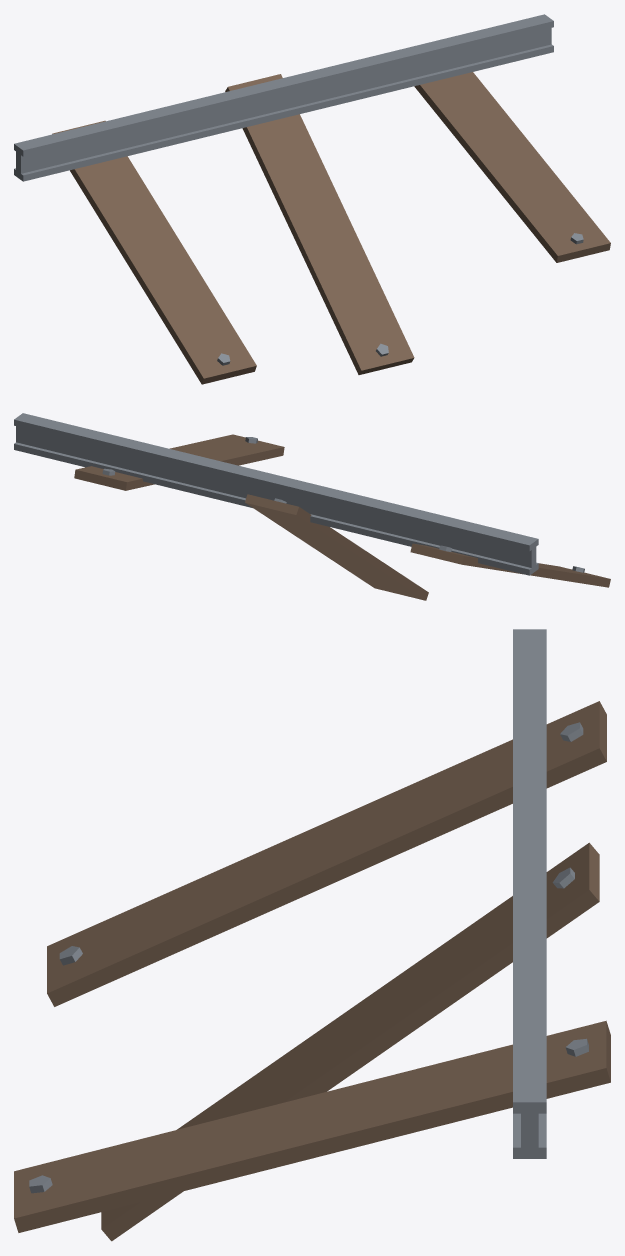
The model's file is Track_HalfLeft.fbx.
The picture shows the model from 3 angles, top to bottom: view 1: azimuth 30°, elevation 25°; view 2: azimuth 150°, elevation 25°; view 3: azimuth 270°, elevation 25°; orthographic projection. The views are drawn at different scales.
Visible parts, largest first — view 1: Track_HalfLeft; view 2: Track_HalfLeft; view 3: Track_HalfLeft.
Part boxes in pixels (x1,y1,x2,y2): Track_HalfLeft: (14, 14, 610, 384); Track_HalfLeft: (14, 413, 610, 600); Track_HalfLeft: (14, 629, 610, 1241).
Bounding box in the file's own units: 200 × 71.79 × 107.
